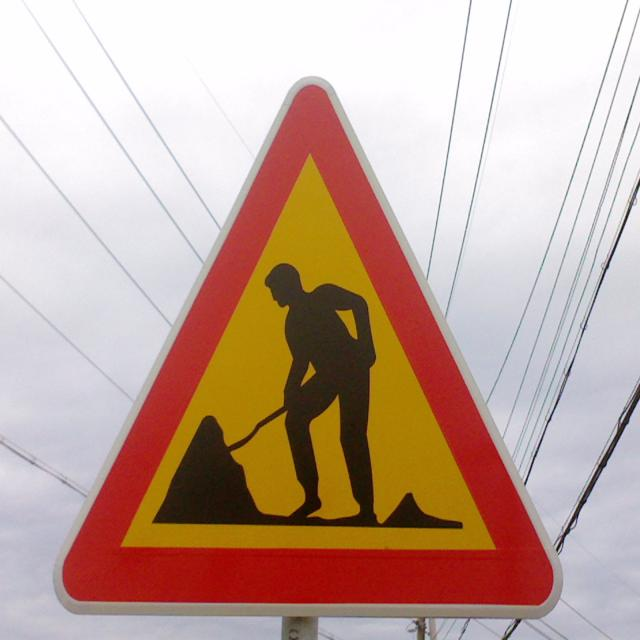Road_construction: (40, 54, 571, 623)
